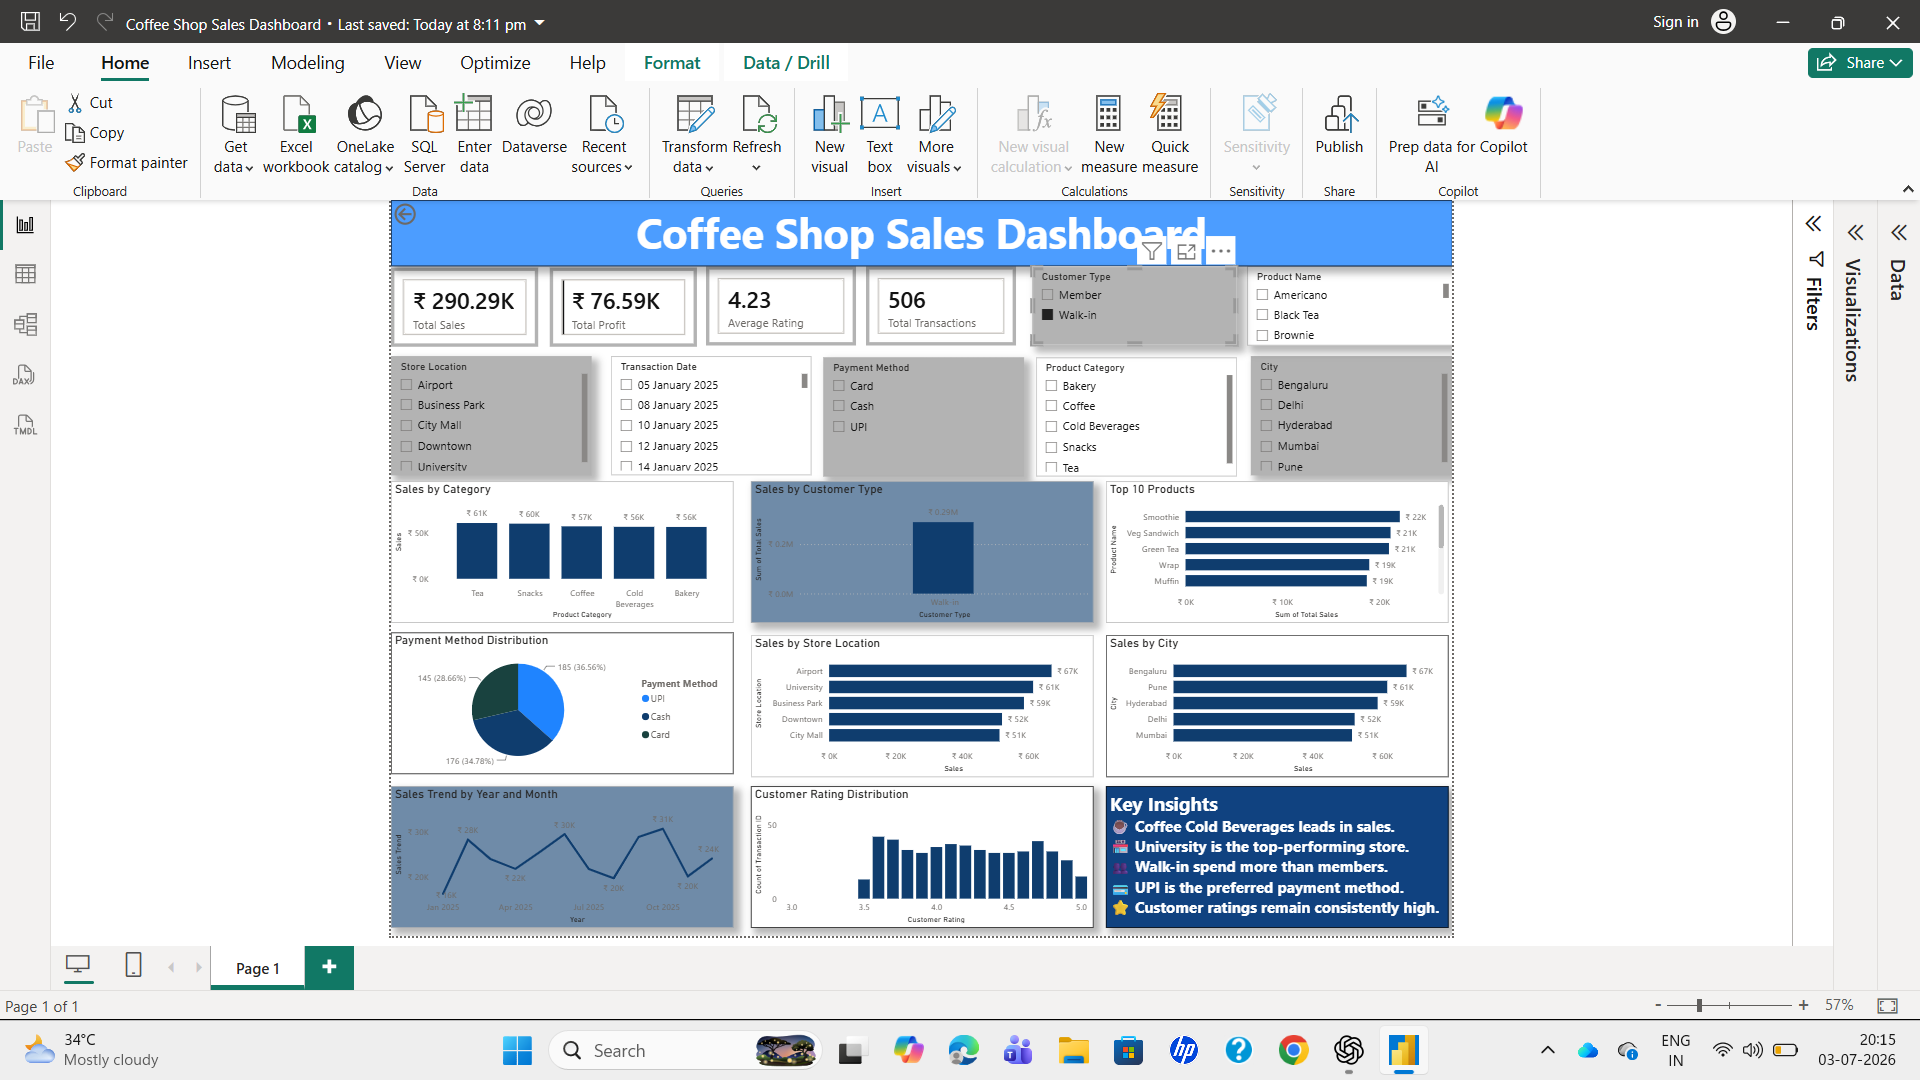

What the dashboard file says about the page in this screenshot:
{"tool":"powerbi","page":{"name":"Page 1","canvas":[1500,1040],"ordinal":0},"visuals":[{"type":"cardVisual","fields":{"Data":["Sum(CoffeeShopSales.Total Sales)"]},"box":[0,96,208,112],"z":0},{"type":"cardVisual","fields":{"Data":["Sum(CoffeeShopSales.Profit)"]},"box":[224,96,208,112],"z":1000},{"type":"cardVisual","fields":{"Data":["Avg(CoffeeShopSales.Customer Rating)"]},"box":[445,93.4,212.3,112.1],"z":2000},{"type":"cardVisual","fields":{"Data":["CoffeeShopSales.Total Transactions"]},"box":[670.9,93.4,212.3,112.1],"z":3000},{"type":"slicer","fields":{"Values":["CoffeeShopSales.City"]},"box":[1216,220.8,283.6,168.1],"z":4000},{"type":"slicer","fields":{"Values":["CoffeeShopSales.Store Location"]},"box":[0,220.8,283,168.1],"z":5000},{"type":"slicer","fields":{"Values":["CoffeeShopSales.Product Category"]},"box":[912,222.5,283.6,168.1],"z":6000},{"type":"slicer","fields":{"Values":["CoffeeShopSales.Customer Type"]},"box":[905.2,93.4,290.4,112.1],"z":7000},{"type":"slicer","fields":{"Values":["CoffeeShopSales.Payment Method"]},"box":[611.4,222.5,283,168.1],"z":8000},{"type":"slicer","fields":{"Values":["CoffeeShopSales.Product Name"]},"box":[1209.2,93.4,290.4,112.1],"z":9000},{"type":"slicer","fields":{"Values":["CoffeeShopSales.Transaction Date"]},"box":[310.8,220.8,283,168.1],"z":10000},{"type":"lineChart","fields":{"Y":["Sum(CoffeeShopSales.Total Sales)"],"Category":["CoffeeShopSales.Transaction Date.Variation.Date Hierarchy.Year","CoffeeShopSales.Transaction Date.Variation.Date Hierarchy.Month"]},"box":[0,829.2,484,200],"z":11000},{"type":"clusteredBarChart","fields":{"Y":["Sum(CoffeeShopSales.Total Sales)"],"Category":["CoffeeShopSales.City"]},"box":[1010.5,614.8,484,200.4],"z":12000},{"type":"clusteredBarChart","fields":{"Category":["CoffeeShopSales.Store Location"],"Y":["Sum(CoffeeShopSales.Total Sales)"]},"box":[507.8,614.8,484,200.4],"z":13000},{"type":"clusteredColumnChart","title":"Sales by Category","fields":{"Category":["CoffeeShopSales.Product Category"],"Y":["Sum(CoffeeShopSales.Total Sales)"]},"box":[0,397.4,484,200],"z":14000},{"type":"clusteredBarChart","title":"Top 10 Products","fields":{"Y":["Sum(CoffeeShopSales.Total Sales)"],"Category":["CoffeeShopSales.Product Name"]},"box":[1010.5,397.4,484,200],"z":15000},{"type":"pieChart","title":"Payment Method Distribution","fields":{"Category":["CoffeeShopSales.Payment Method"],"Y":["CountNonNull(CoffeeShopSales.Transaction ID)"]},"box":[0,611.4,484,200],"z":16000},{"type":"columnChart","title":" Sales by Customer Type","fields":{"Category":["CoffeeShopSales.Customer Type"],"Y":["Sum(CoffeeShopSales.Total Sales)"]},"box":[507.8,397.4,484,200],"z":17000},{"type":"textbox","box":[0,0,1499.7,93.4],"z":18000},{"type":"columnChart","title":"Customer Rating Distribution","fields":{"Category":["CoffeeShopSales.Customer Rating"],"Y":["CountNonNull(CoffeeShopSales.Transaction ID)"]},"box":[508,829,484,200],"z":19000},{"type":"textbox","box":[1011,829,484,200],"z":20000},{"type":"actionButton","box":[0,0,100,40],"z":20001}]}

Visuals, with their boxes on the page's 1500x1040 design canvas (x1, y1, x2, y2). These are canvas units, not pixel positions in the 1920x1080 screenshot, which may show the page scaled, cropped or inside an application window:
cardVisual - Sum(CoffeeShopSales.Total Sales): locate(0, 96, 208, 208)
cardVisual - Sum(CoffeeShopSales.Profit): locate(224, 96, 432, 208)
cardVisual - Avg(CoffeeShopSales.Customer Rating): locate(445, 93, 657, 206)
cardVisual - CoffeeShopSales.Total Transactions: locate(671, 93, 883, 206)
slicer - CoffeeShopSales.City: locate(1216, 221, 1500, 389)
slicer - CoffeeShopSales.Store Location: locate(0, 221, 283, 389)
slicer - CoffeeShopSales.Product Category: locate(912, 222, 1196, 391)
slicer - CoffeeShopSales.Customer Type: locate(905, 93, 1196, 206)
slicer - CoffeeShopSales.Payment Method: locate(611, 222, 894, 391)
slicer - CoffeeShopSales.Product Name: locate(1209, 93, 1500, 206)
slicer - CoffeeShopSales.Transaction Date: locate(311, 221, 594, 389)
lineChart - Sum(CoffeeShopSales.Total Sales) x CoffeeShopSales.Transaction Date.Variation.Date Hierarchy.Year: locate(0, 829, 484, 1029)
clusteredBarChart - Sum(CoffeeShopSales.Total Sales) x CoffeeShopSales.City: locate(1010, 615, 1494, 815)
clusteredBarChart - CoffeeShopSales.Store Location x Sum(CoffeeShopSales.Total Sales): locate(508, 615, 992, 815)
"Sales by Category" clusteredColumnChart: locate(0, 397, 484, 597)
"Top 10 Products" clusteredBarChart: locate(1010, 397, 1494, 597)
"Payment Method Distribution" pieChart: locate(0, 611, 484, 811)
" Sales by Customer Type" columnChart: locate(508, 397, 992, 597)
textbox: locate(0, 0, 1500, 93)
"Customer Rating Distribution" columnChart: locate(508, 829, 992, 1029)
textbox: locate(1011, 829, 1495, 1029)
actionButton: locate(0, 0, 100, 40)
